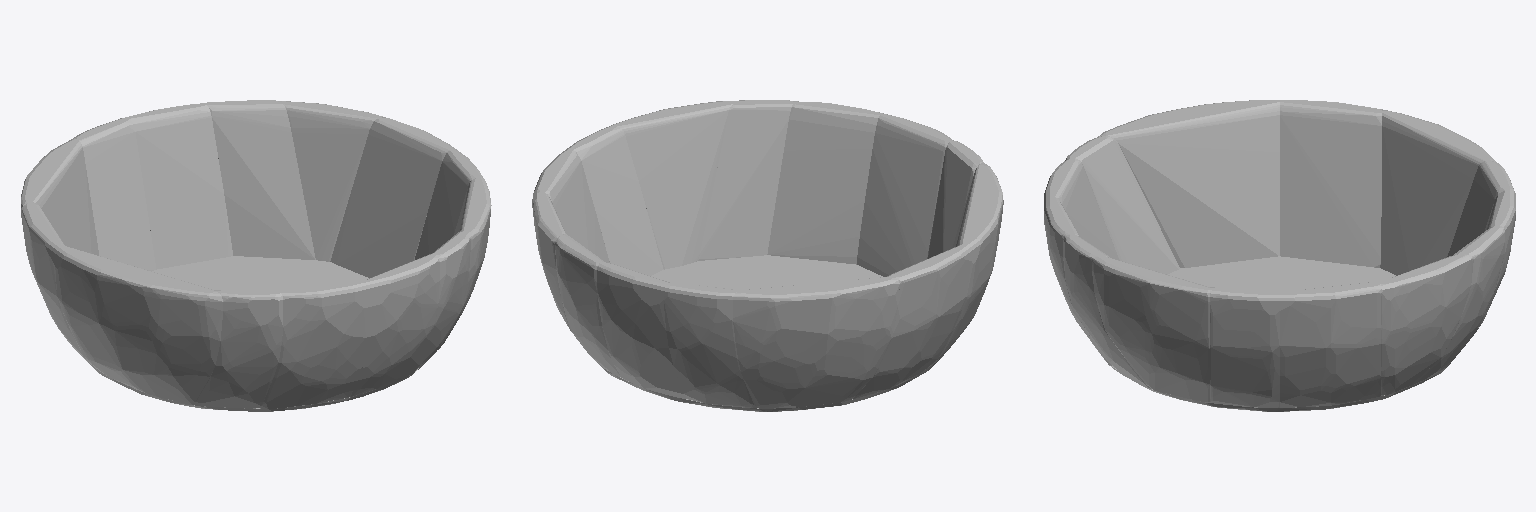
URDF robot description (root):
<robot name="root">
  <link name="body">
    <visual>
      <origin xyz="0 0 0" rpy="0 0 0"/>
      <geometry>
        <mesh filename="coacd_convex_piece_0.obj" scale="1.0000E+00 1.0000E+00 1.0000E+00"/>
      </geometry>
      <material name="">
        <color rgba="7.50E-01 7.50E-01 7.50E-01 1"/>
      </material>
    </visual>
    <collision>
      <origin xyz="0 0 0" rpy="0 0 0"/>
      <geometry>
        <mesh filename="coacd_convex_piece_0.obj" scale="1.0000E+00 1.0000E+00 1.0000E+00"/>
      </geometry>
    </collision>
    <visual>
      <origin xyz="0 0 0" rpy="0 0 0"/>
      <geometry>
        <mesh filename="coacd_convex_piece_1.obj" scale="1.0000E+00 1.0000E+00 1.0000E+00"/>
      </geometry>
      <material name="">
        <color rgba="7.50E-01 7.50E-01 7.50E-01 1"/>
      </material>
    </visual>
    <collision>
      <origin xyz="0 0 0" rpy="0 0 0"/>
      <geometry>
        <mesh filename="coacd_convex_piece_1.obj" scale="1.0000E+00 1.0000E+00 1.0000E+00"/>
      </geometry>
    </collision>
    <visual>
      <origin xyz="0 0 0" rpy="0 0 0"/>
      <geometry>
        <mesh filename="coacd_convex_piece_2.obj" scale="1.0000E+00 1.0000E+00 1.0000E+00"/>
      </geometry>
      <material name="">
        <color rgba="7.50E-01 7.50E-01 7.50E-01 1"/>
      </material>
    </visual>
    <collision>
      <origin xyz="0 0 0" rpy="0 0 0"/>
      <geometry>
        <mesh filename="coacd_convex_piece_2.obj" scale="1.0000E+00 1.0000E+00 1.0000E+00"/>
      </geometry>
    </collision>
    <visual>
      <origin xyz="0 0 0" rpy="0 0 0"/>
      <geometry>
        <mesh filename="coacd_convex_piece_3.obj" scale="1.0000E+00 1.0000E+00 1.0000E+00"/>
      </geometry>
      <material name="">
        <color rgba="7.50E-01 7.50E-01 7.50E-01 1"/>
      </material>
    </visual>
    <collision>
      <origin xyz="0 0 0" rpy="0 0 0"/>
      <geometry>
        <mesh filename="coacd_convex_piece_3.obj" scale="1.0000E+00 1.0000E+00 1.0000E+00"/>
      </geometry>
    </collision>
    <visual>
      <origin xyz="0 0 0" rpy="0 0 0"/>
      <geometry>
        <mesh filename="coacd_convex_piece_4.obj" scale="1.0000E+00 1.0000E+00 1.0000E+00"/>
      </geometry>
      <material name="">
        <color rgba="7.50E-01 7.50E-01 7.50E-01 1"/>
      </material>
    </visual>
    <collision>
      <origin xyz="0 0 0" rpy="0 0 0"/>
      <geometry>
        <mesh filename="coacd_convex_piece_4.obj" scale="1.0000E+00 1.0000E+00 1.0000E+00"/>
      </geometry>
    </collision>
    <visual>
      <origin xyz="0 0 0" rpy="0 0 0"/>
      <geometry>
        <mesh filename="coacd_convex_piece_5.obj" scale="1.0000E+00 1.0000E+00 1.0000E+00"/>
      </geometry>
      <material name="">
        <color rgba="7.50E-01 7.50E-01 7.50E-01 1"/>
      </material>
    </visual>
    <collision>
      <origin xyz="0 0 0" rpy="0 0 0"/>
      <geometry>
        <mesh filename="coacd_convex_piece_5.obj" scale="1.0000E+00 1.0000E+00 1.0000E+00"/>
      </geometry>
    </collision>
    <visual>
      <origin xyz="0 0 0" rpy="0 0 0"/>
      <geometry>
        <mesh filename="coacd_convex_piece_6.obj" scale="1.0000E+00 1.0000E+00 1.0000E+00"/>
      </geometry>
      <material name="">
        <color rgba="7.50E-01 7.50E-01 7.50E-01 1"/>
      </material>
    </visual>
    <collision>
      <origin xyz="0 0 0" rpy="0 0 0"/>
      <geometry>
        <mesh filename="coacd_convex_piece_6.obj" scale="1.0000E+00 1.0000E+00 1.0000E+00"/>
      </geometry>
    </collision>
    <visual>
      <origin xyz="0 0 0" rpy="0 0 0"/>
      <geometry>
        <mesh filename="coacd_convex_piece_7.obj" scale="1.0000E+00 1.0000E+00 1.0000E+00"/>
      </geometry>
      <material name="">
        <color rgba="7.50E-01 7.50E-01 7.50E-01 1"/>
      </material>
    </visual>
    <collision>
      <origin xyz="0 0 0" rpy="0 0 0"/>
      <geometry>
        <mesh filename="coacd_convex_piece_7.obj" scale="1.0000E+00 1.0000E+00 1.0000E+00"/>
      </geometry>
    </collision>
    <visual>
      <origin xyz="0 0 0" rpy="0 0 0"/>
      <geometry>
        <mesh filename="coacd_convex_piece_8.obj" scale="1.0000E+00 1.0000E+00 1.0000E+00"/>
      </geometry>
      <material name="">
        <color rgba="7.50E-01 7.50E-01 7.50E-01 1"/>
      </material>
    </visual>
    <collision>
      <origin xyz="0 0 0" rpy="0 0 0"/>
      <geometry>
        <mesh filename="coacd_convex_piece_8.obj" scale="1.0000E+00 1.0000E+00 1.0000E+00"/>
      </geometry>
    </collision>
    <visual>
      <origin xyz="0 0 0" rpy="0 0 0"/>
      <geometry>
        <mesh filename="coacd_convex_piece_9.obj" scale="1.0000E+00 1.0000E+00 1.0000E+00"/>
      </geometry>
      <material name="">
        <color rgba="7.50E-01 7.50E-01 7.50E-01 1"/>
      </material>
    </visual>
    <collision>
      <origin xyz="0 0 0" rpy="0 0 0"/>
      <geometry>
        <mesh filename="coacd_convex_piece_9.obj" scale="1.0000E+00 1.0000E+00 1.0000E+00"/>
      </geometry>
    </collision>
    <visual>
      <origin xyz="0 0 0" rpy="0 0 0"/>
      <geometry>
        <mesh filename="coacd_convex_piece_10.obj" scale="1.0000E+00 1.0000E+00 1.0000E+00"/>
      </geometry>
      <material name="">
        <color rgba="7.50E-01 7.50E-01 7.50E-01 1"/>
      </material>
    </visual>
    <collision>
      <origin xyz="0 0 0" rpy="0 0 0"/>
      <geometry>
        <mesh filename="coacd_convex_piece_10.obj" scale="1.0000E+00 1.0000E+00 1.0000E+00"/>
      </geometry>
    </collision>
    <visual>
      <origin xyz="0 0 0" rpy="0 0 0"/>
      <geometry>
        <mesh filename="coacd_convex_piece_11.obj" scale="1.0000E+00 1.0000E+00 1.0000E+00"/>
      </geometry>
      <material name="">
        <color rgba="7.50E-01 7.50E-01 7.50E-01 1"/>
      </material>
    </visual>
    <collision>
      <origin xyz="0 0 0" rpy="0 0 0"/>
      <geometry>
        <mesh filename="coacd_convex_piece_11.obj" scale="1.0000E+00 1.0000E+00 1.0000E+00"/>
      </geometry>
    </collision>
    <visual>
      <origin xyz="0 0 0" rpy="0 0 0"/>
      <geometry>
        <mesh filename="coacd_convex_piece_12.obj" scale="1.0000E+00 1.0000E+00 1.0000E+00"/>
      </geometry>
      <material name="">
        <color rgba="7.50E-01 7.50E-01 7.50E-01 1"/>
      </material>
    </visual>
    <collision>
      <origin xyz="0 0 0" rpy="0 0 0"/>
      <geometry>
        <mesh filename="coacd_convex_piece_12.obj" scale="1.0000E+00 1.0000E+00 1.0000E+00"/>
      </geometry>
    </collision>
    <visual>
      <origin xyz="0 0 0" rpy="0 0 0"/>
      <geometry>
        <mesh filename="coacd_convex_piece_13.obj" scale="1.0000E+00 1.0000E+00 1.0000E+00"/>
      </geometry>
      <material name="">
        <color rgba="7.50E-01 7.50E-01 7.50E-01 1"/>
      </material>
    </visual>
    <collision>
      <origin xyz="0 0 0" rpy="0 0 0"/>
      <geometry>
        <mesh filename="coacd_convex_piece_13.obj" scale="1.0000E+00 1.0000E+00 1.0000E+00"/>
      </geometry>
    </collision>
    <visual>
      <origin xyz="0 0 0" rpy="0 0 0"/>
      <geometry>
        <mesh filename="coacd_convex_piece_14.obj" scale="1.0000E+00 1.0000E+00 1.0000E+00"/>
      </geometry>
      <material name="">
        <color rgba="7.50E-01 7.50E-01 7.50E-01 1"/>
      </material>
    </visual>
    <collision>
      <origin xyz="0 0 0" rpy="0 0 0"/>
      <geometry>
        <mesh filename="coacd_convex_piece_14.obj" scale="1.0000E+00 1.0000E+00 1.0000E+00"/>
      </geometry>
    </collision>
  </link>
</robot>

--- Facts derived from the render (not from the file) ---
Views: 3 orthographic renders of the robot side by side, from view 1: azimuth 30°, elevation 25°; view 2: azimuth 150°, elevation 25°; view 3: azimuth 270°, elevation 25°.
Model root with 1 links and 0 joints (none), rooted at body, posed every joint at zero.
Visible links, largest first — view 1: body; view 2: body; view 3: body.
Boxes of the visible links, x1=… form: body: x1=21, y1=100, x2=491, y2=411; body: x1=532, y1=100, x2=1003, y2=411; body: x1=1044, y1=100, x2=1515, y2=411.
Bounding box of the posed robot: 1.87 × 1.87 × 0.6089 m (x, y, z).
15 mesh visuals loaded from 15 distinct referenced files (15 OBJ).
